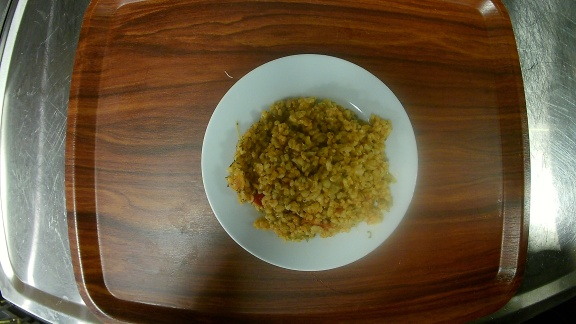bulgur: (203, 54, 418, 270)
